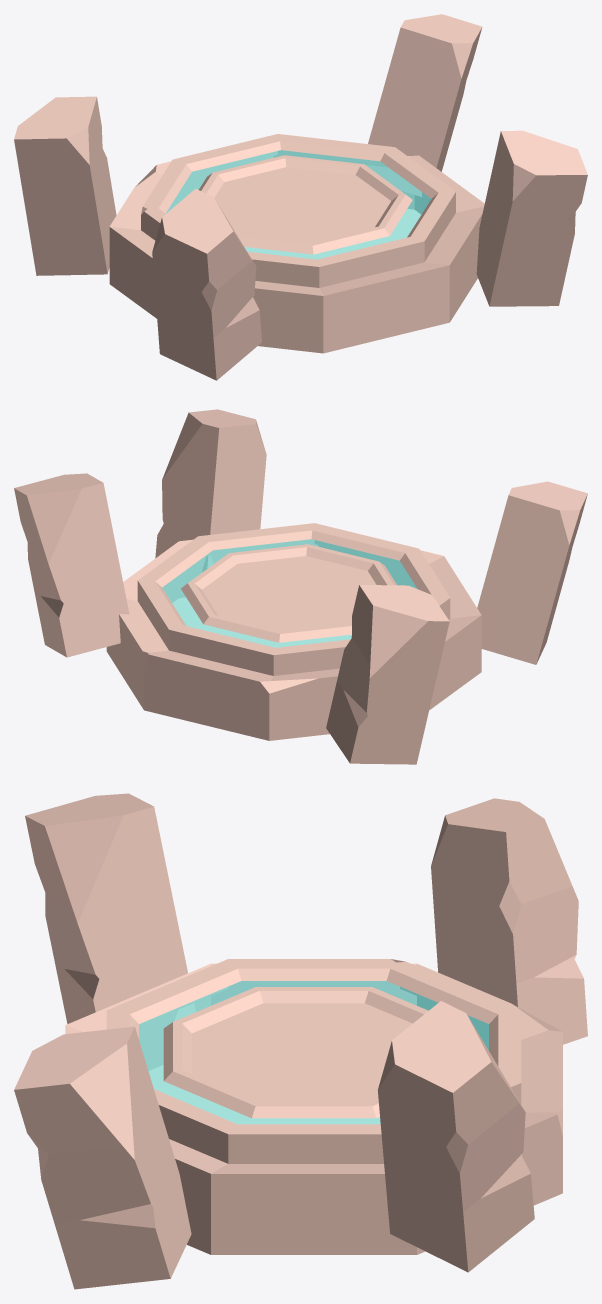
Rendered from silver_join_area.gltf.
3 views of the same model, one above another, from view 1: azimuth 30°, elevation 25°; view 2: azimuth 150°, elevation 25°; view 3: azimuth 270°, elevation 25° (orthographic). The views are drawn at different scales.
Parts seen in each view (by area): view 1: Circle.017; view 2: Circle.017; view 3: Circle.017.
Part boxes in pixels (x1=…): Circle.017: x1=14, y1=14, x2=587, y2=380; Circle.017: x1=14, y1=409, x2=587, y2=764; Circle.017: x1=14, y1=793, x2=587, y2=1289.
Size of what is drawn, in the model's own units: 8.25 by 3.31 by 6.4.
2 materials, 1 textured.
